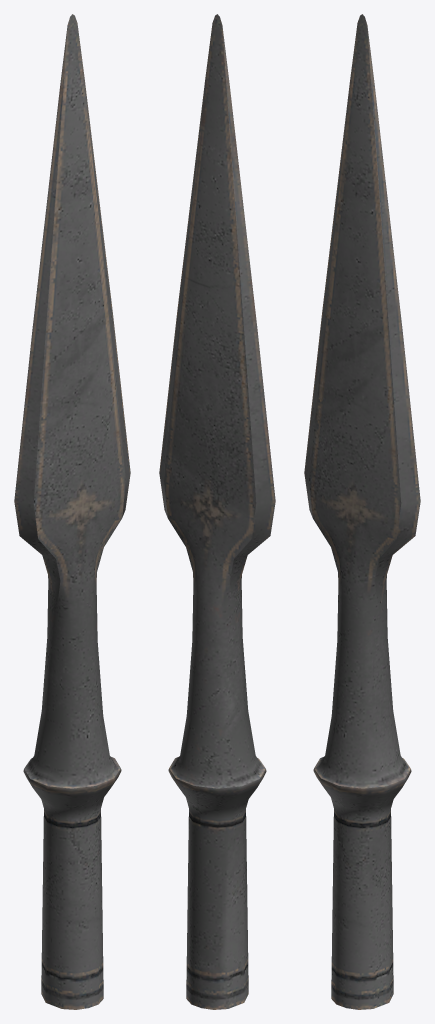
Rendered from wm_swan_knight_spear_blade.fbx.
3 views of the same model, side by side, from view 1: azimuth 30°, elevation 25°; view 2: azimuth 150°, elevation 25°; view 3: azimuth 330°, elevation 25° (orthographic).
Visible parts, largest first — view 1: wm_swan_knight_spear_blade; view 2: wm_swan_knight_spear_blade; view 3: wm_swan_knight_spear_blade.
Boxes of the visible parts, bbox=[...] form: wm_swan_knight_spear_blade: bbox=[14, 14, 130, 1009]; wm_swan_knight_spear_blade: bbox=[159, 14, 275, 1009]; wm_swan_knight_spear_blade: bbox=[304, 14, 420, 1009].
Size of the model in its own units: 0.0721 by 0.0512 by 0.5826.
Materials: 1 (1 with a texture image).
